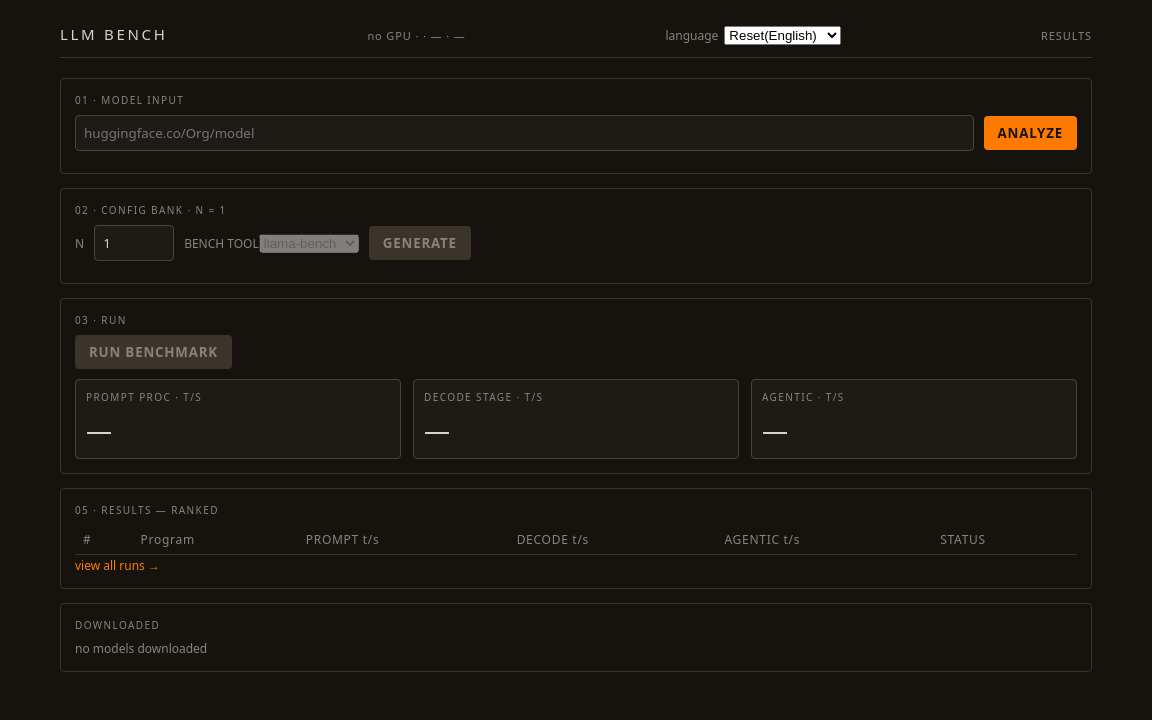
Test: fit line renders FITS VRAM when verdict is gpu
The width and height of the screenshot is (1152, 720).
In the field with placeholder "huggingface.co/Org/model": (524, 133) [75,115,974,151], type "org/model"
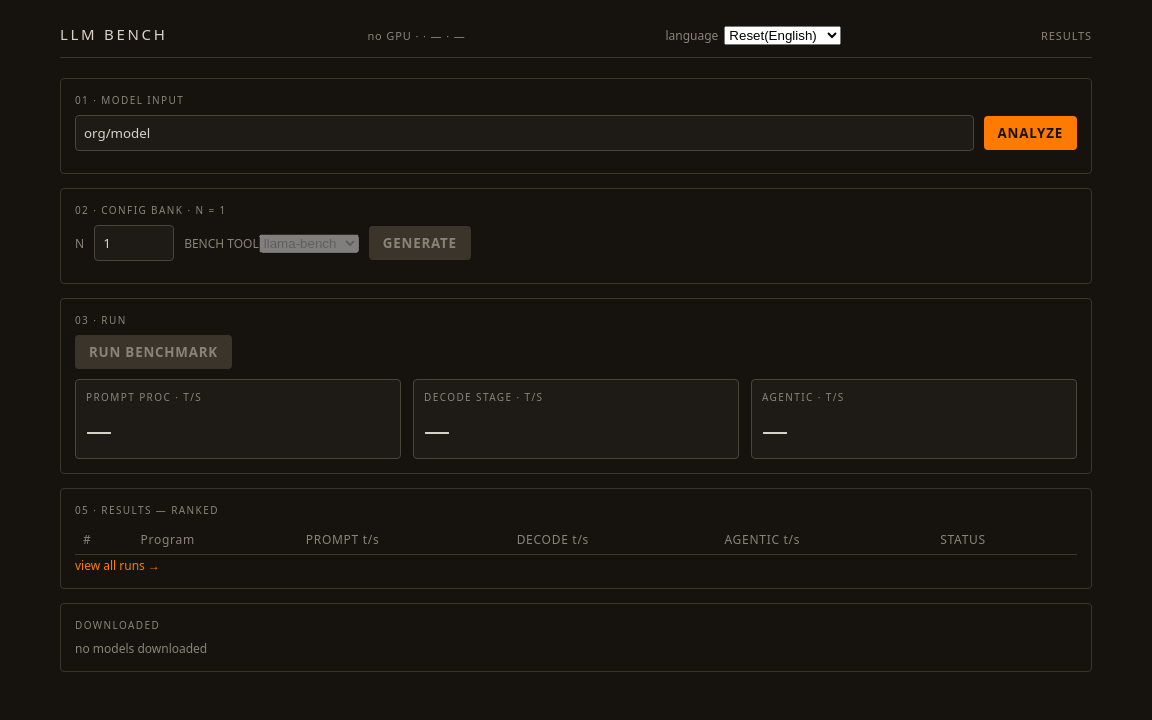
Click the button "ANALYZE": (1030, 133) [984,116,1077,150]
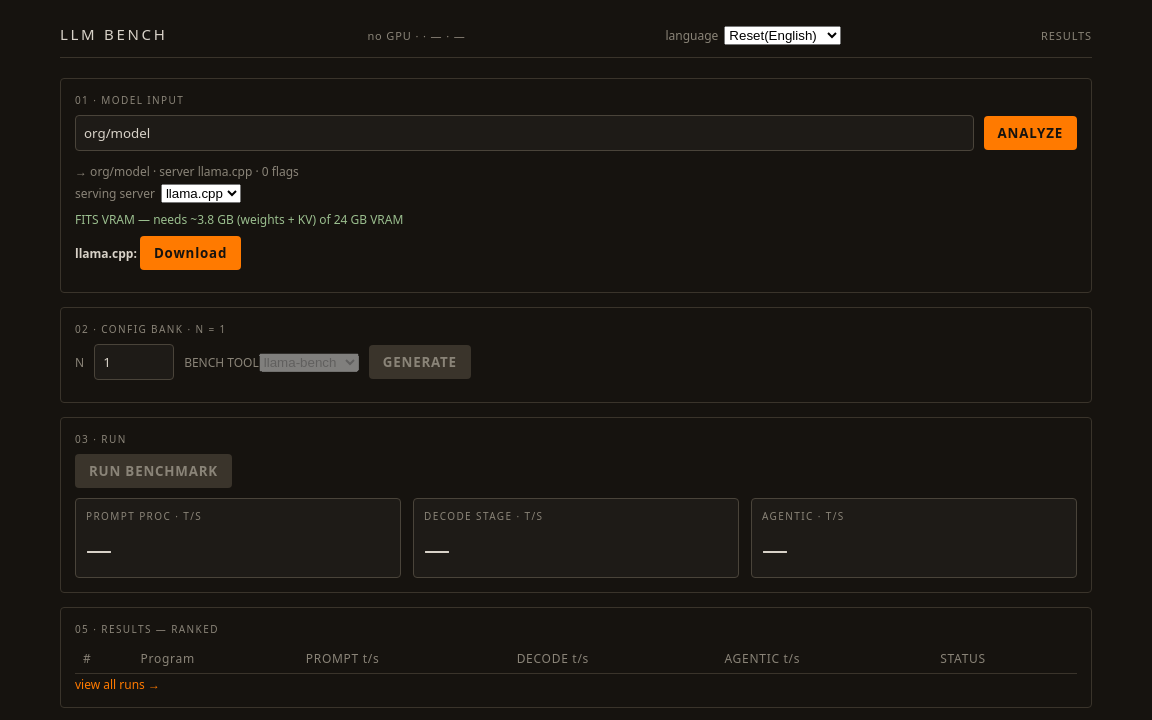
Result: the text "FITS VRAM — needs ~3.8 GB (weights + KV) of 24 GB VRAM" is shown at [75,211,403,228]
